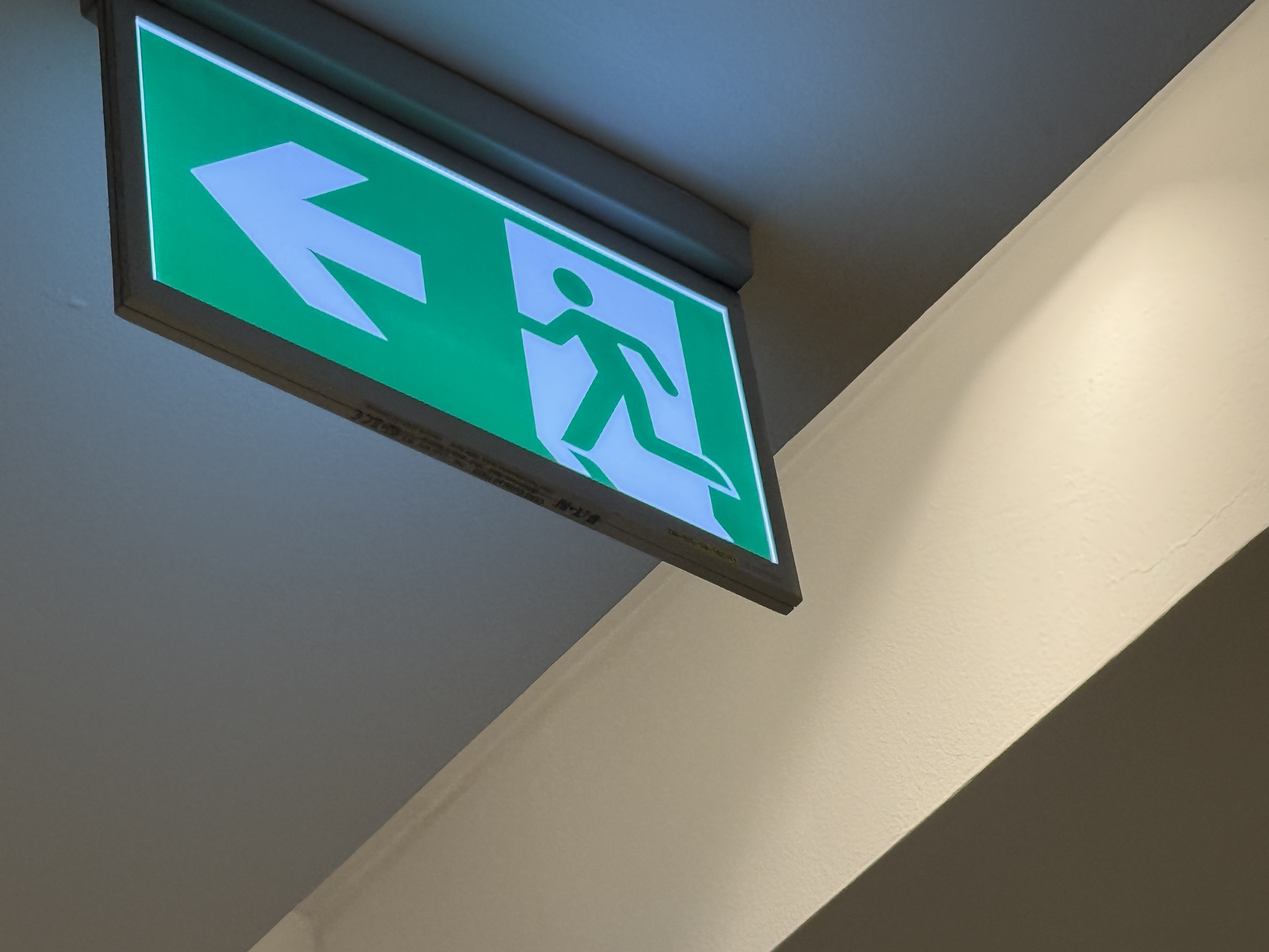emergency_exit: (94, 1, 805, 617)
